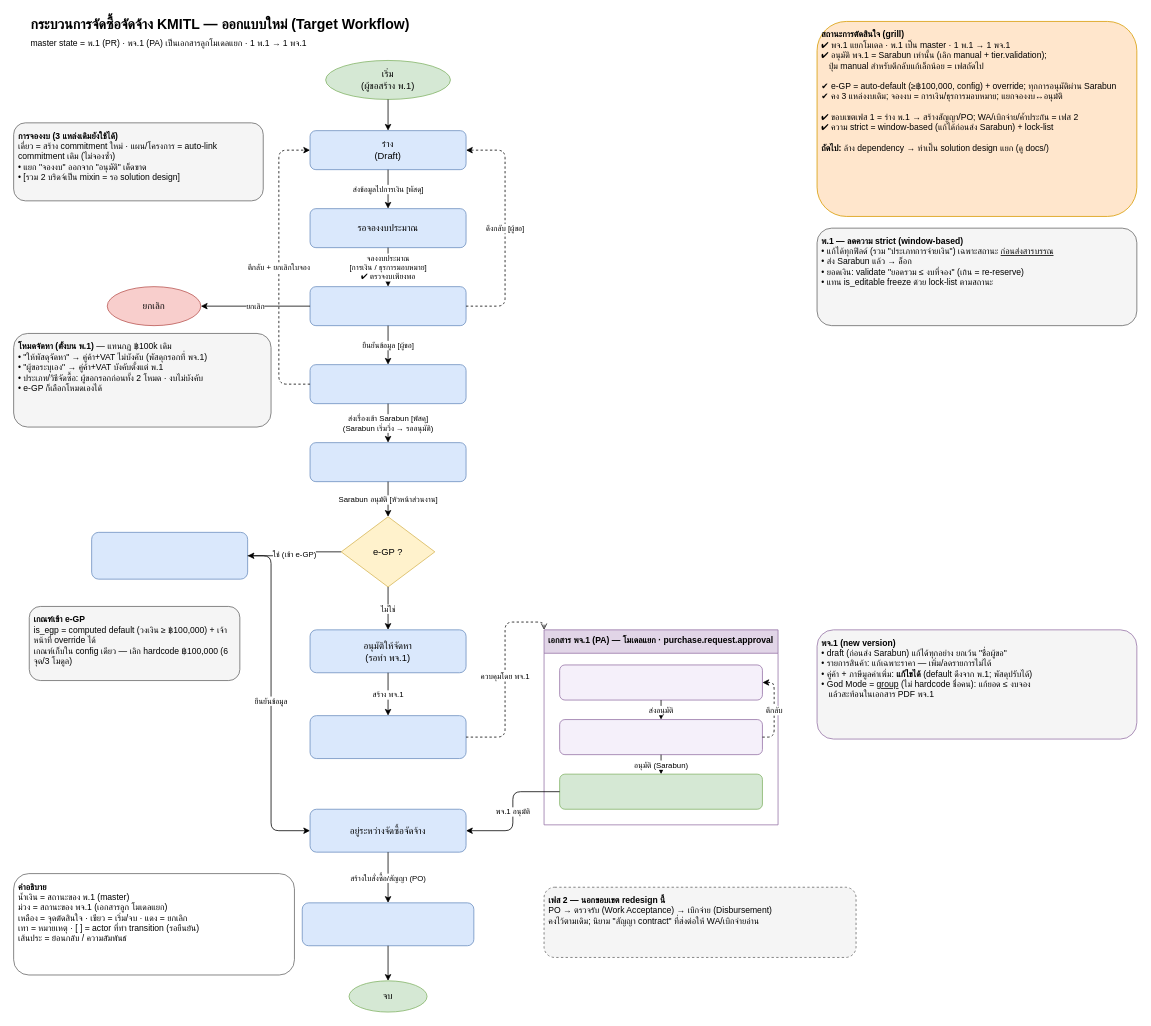
The diagram is 1151 pixels wide and 1026 high, and some of its shapes have lost their labels. The shapes that lost their labels are listed below. From the top down, each one's centre as x and y in pixels, then its label:
At point 387,306: "รอผู้ขอยืนยัน".
At point 387,384: "รอส่งเรื่องอนุมัติให้จัดหา".
At point 387,462: "รออนุมัติให้จัดหา".
At point 169,555: "รอดำเนินการ e-GP (กรอกเลขที่โครงการ)".
At point 660,682: "ร่าง พจ.1 (คัดลอกจาก พ.1)".
At point 387,737: "อยู่ระหว่างจัดหา (พจ.1 กำลังดำเนินการ)".
At point 660,737: "รออนุมัติจัดซื้อ".
At point 660,791: "อนุมัติแล้ว".
At point 387,924: "จัดซื้อจัดจ้างเสร็จสิ้น (สร้างสัญญา/PO เสร็จ — จบเฟส 1)".
